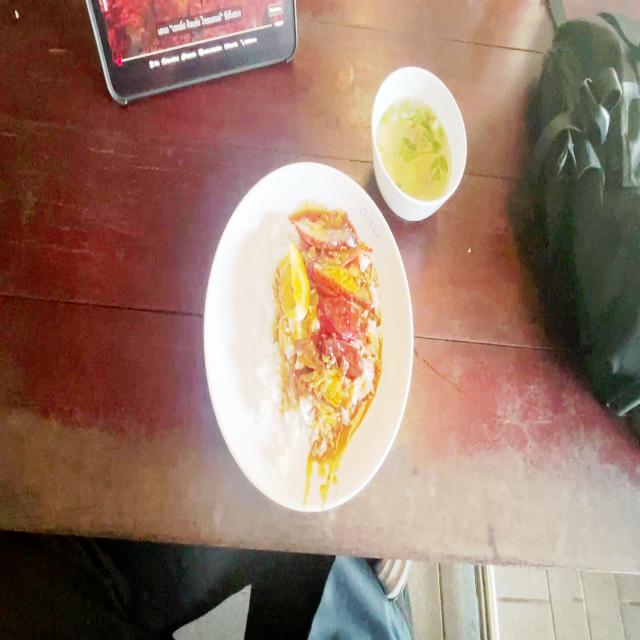red_pork_and_crispy_pork: (258, 224, 380, 440)
